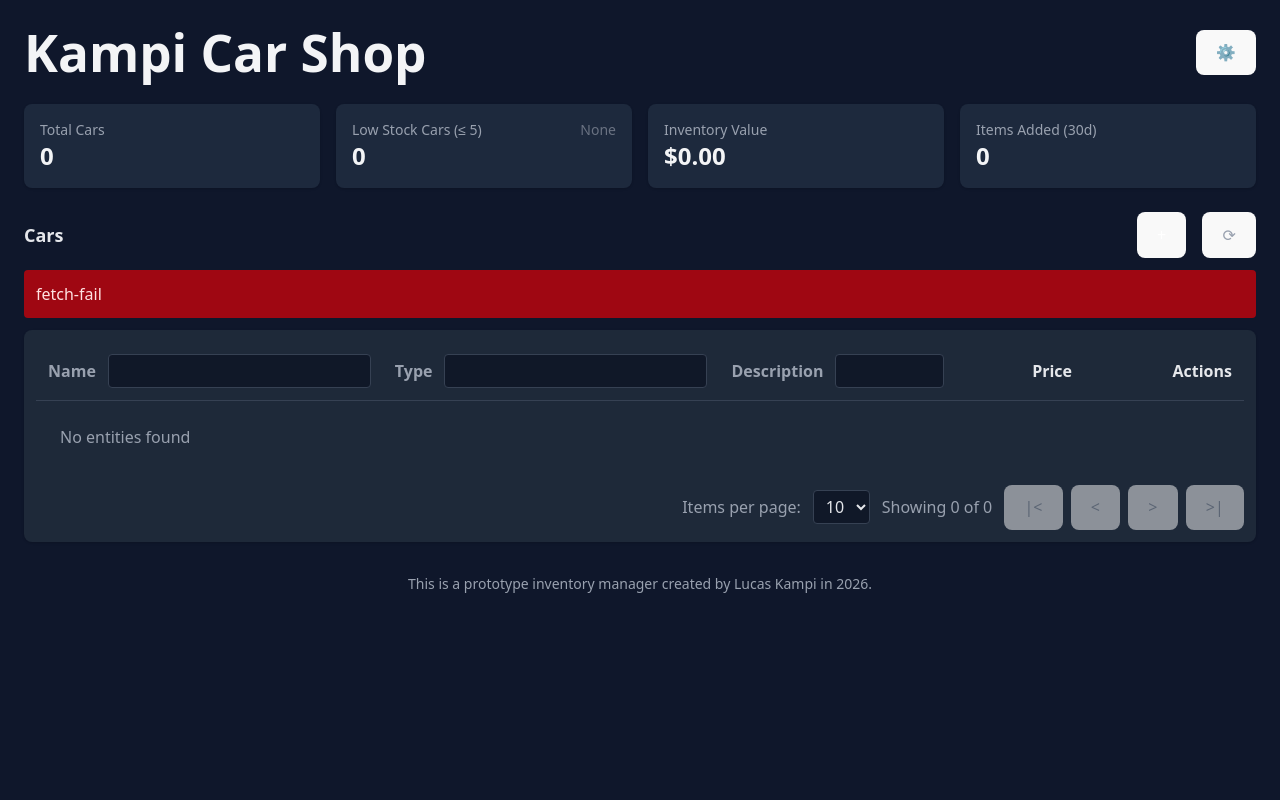
shows error when fetch fails and retry (Refresh) reloads
The width and height of the screenshot is (1280, 800).
Expected: the text "fetch-fail" is shown, [24,270,1256,318]
Step 1. Click the button titled "Refresh" → click(1229, 235), box [1202,212,1256,258]
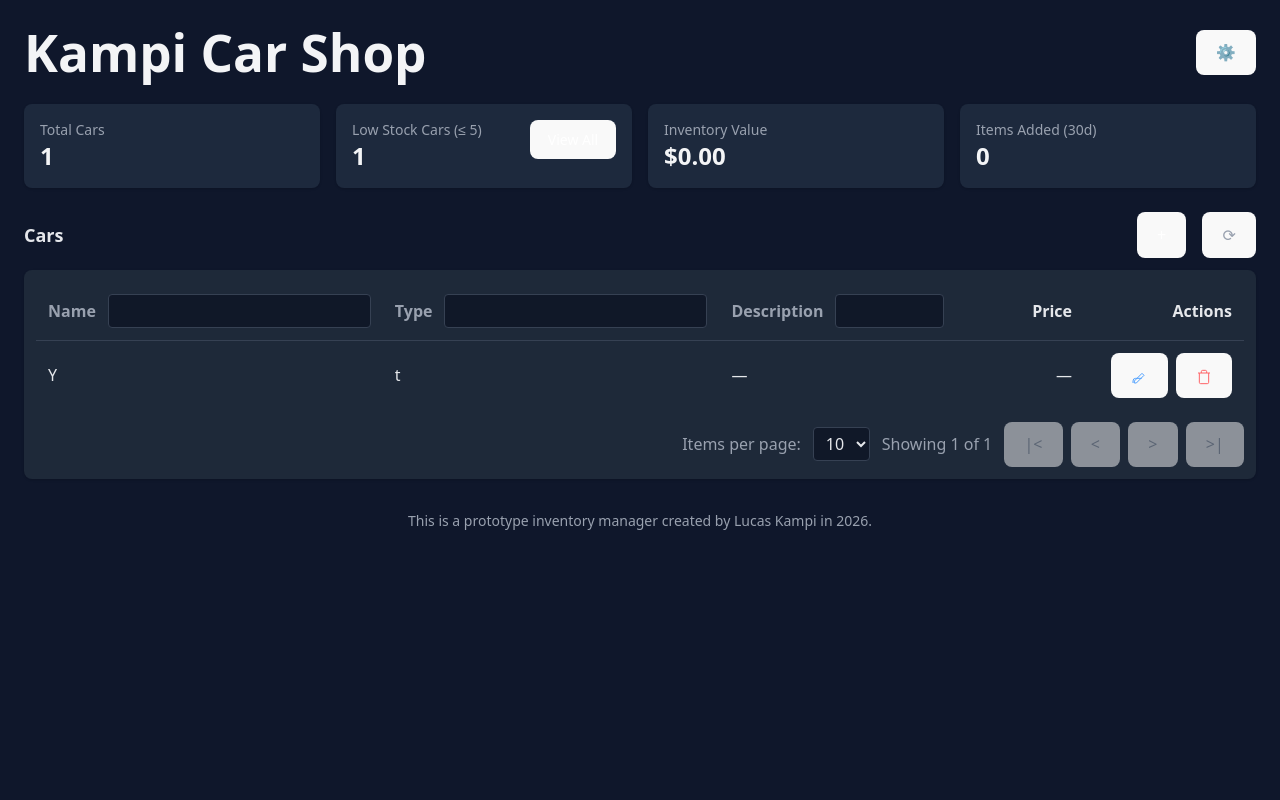
Expected: the text "Y" is shown, [36,340,383,410]
